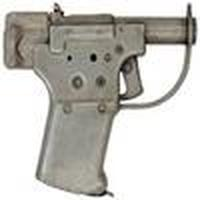gun: (3, 13, 196, 197)
